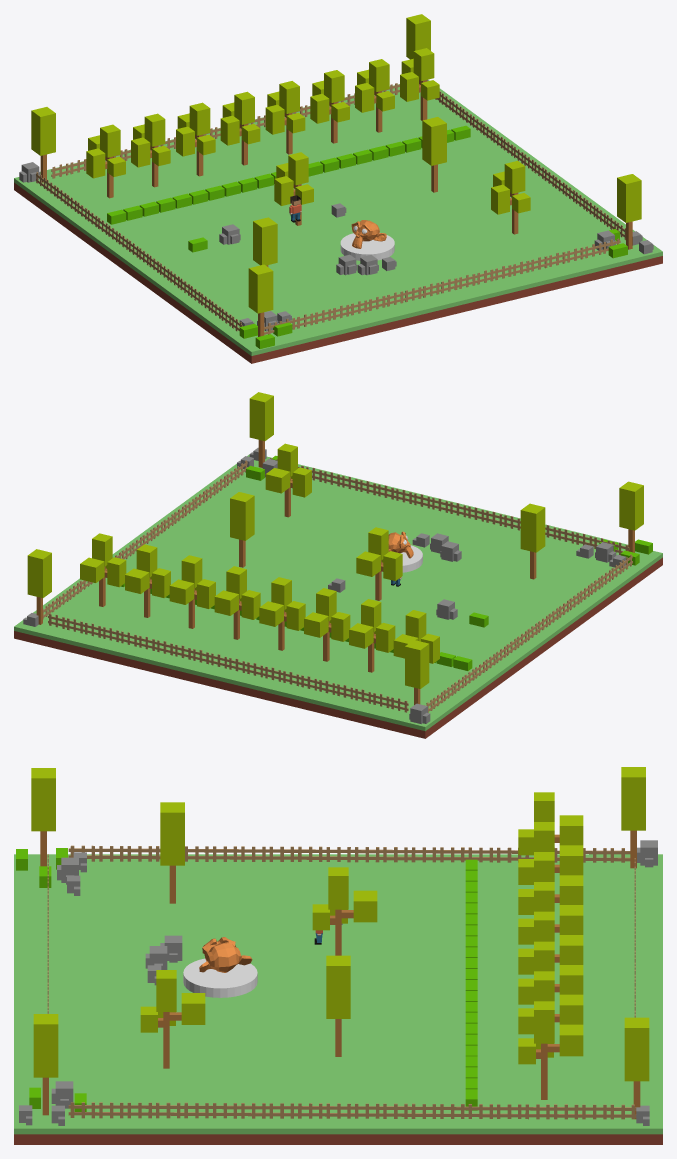
Rendered from ThreeJSSitev1.glb.
The picture shows the model from 3 angles, top to bottom: view 1: azimuth 30°, elevation 25°; view 2: azimuth 150°, elevation 25°; view 3: azimuth 270°, elevation 25°; orthographic projection. The views are drawn at different scales.
Visible parts, largest first — view 1: ground; view 2: ground; view 3: ground.
Part boxes in pixels (bbox=[...]): ground: bbox=[14, 14, 662, 363]; ground: bbox=[14, 392, 662, 738]; ground: bbox=[14, 767, 662, 1144].
Size of the model in its own units: 124 by 23.46 by 124.
